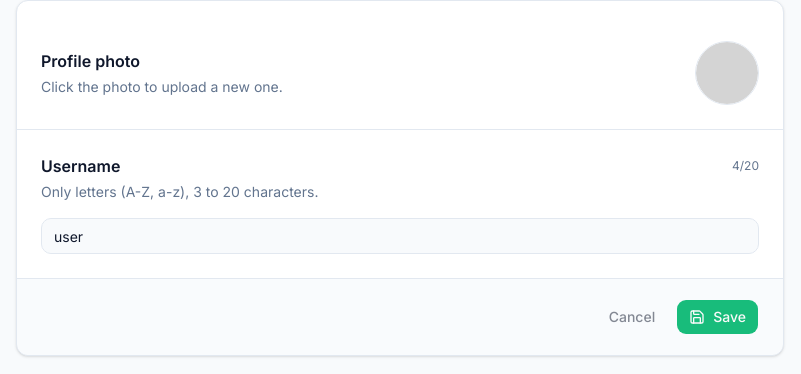
Scenario: ProfileCard › should filter out non-letter characters immediately when typing
Replace the text in the field labelled "Username" with "User123!_ ñ": coordinates (400, 236) left=41, top=218, right=759, bottom=254
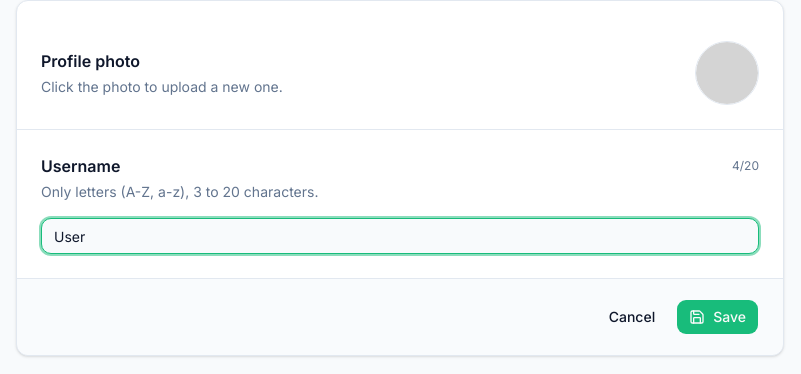
Expected: the field labelled "Username" holds "User", left=41, top=218, right=759, bottom=254
